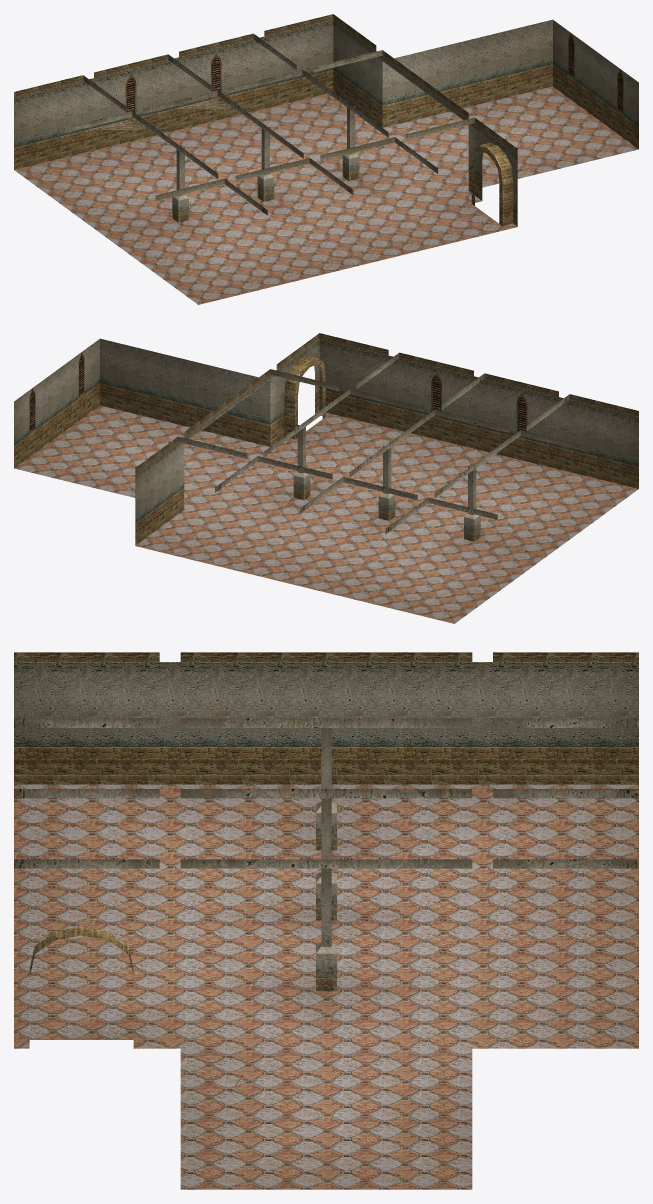
Rendered from M5Z1_VillageInt_02.glb.
3 views of the same model, one above another, from view 1: azimuth 30°, elevation 25°; view 2: azimuth 150°, elevation 25°; view 3: azimuth 270°, elevation 25° (orthographic). The views are drawn at different scales.
Parts seen in each view (by area): view 1: M5Z1_VILLAGEINT_02; view 2: M5Z1_VILLAGEINT_02; view 3: M5Z1_VILLAGEINT_02.
Boxes of the visible parts, x1,y1,x2,y2 form: M5Z1_VILLAGEINT_02: (14,14,638,304); M5Z1_VILLAGEINT_02: (14,333,638,623); M5Z1_VILLAGEINT_02: (14,652,638,1189).
Bounding box in the file's own units: 23 × 3.5 × 15.
6 materials, 6 textured.
